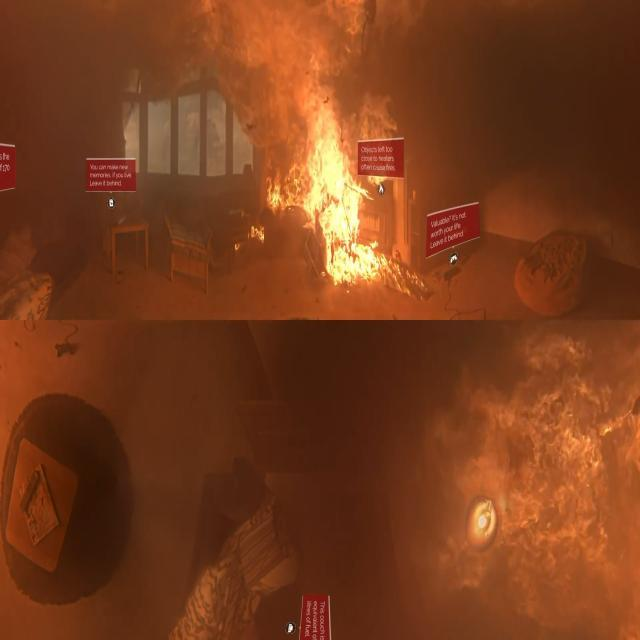Fire: (230, 0, 438, 320)
